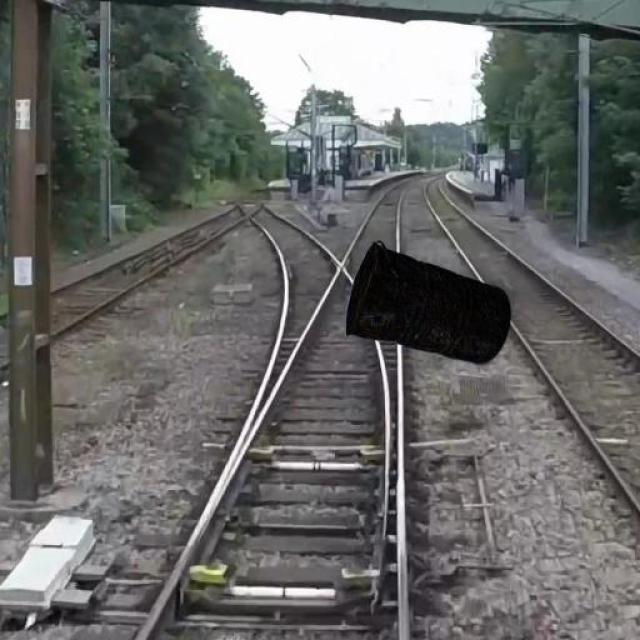Other_objects: (337, 236, 521, 372)
